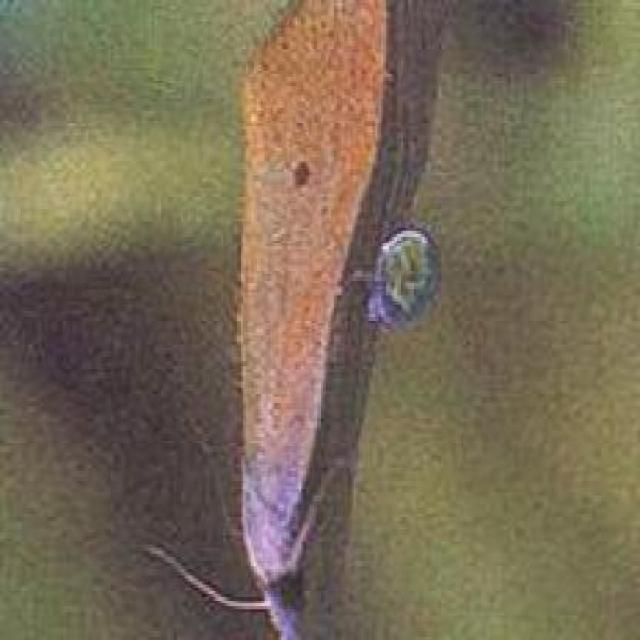stem-borer: (217, 0, 369, 640)
